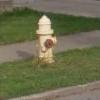Hydrant: (29, 9, 63, 75)
